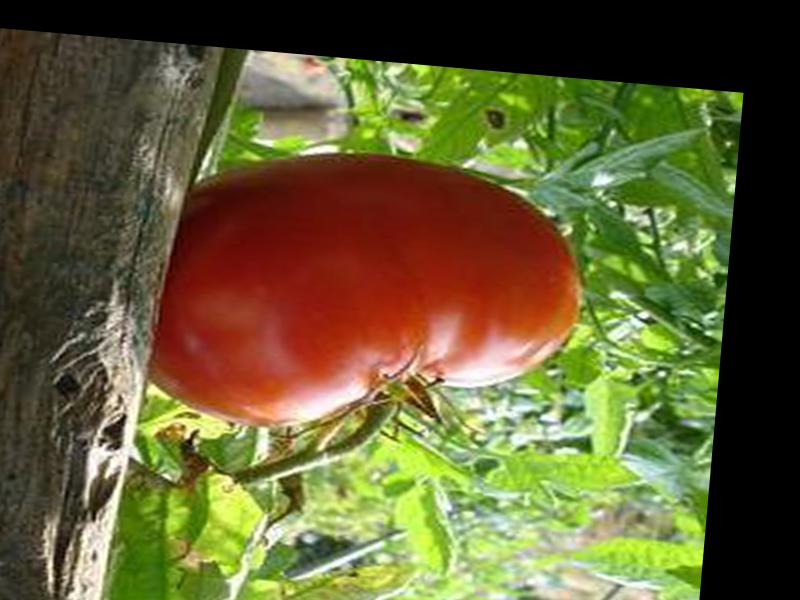Tomato: (138, 139, 592, 453)
